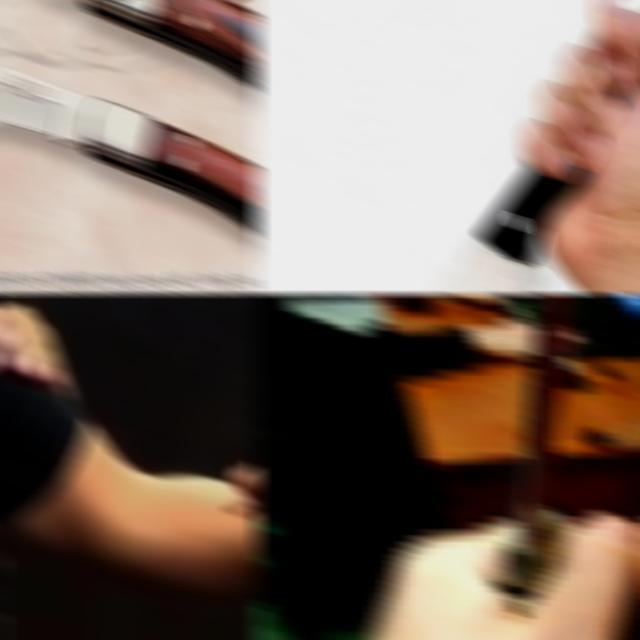Knife: (0, 67, 260, 236), (429, 164, 589, 295), (80, 0, 260, 92)
Knife_Handle: (261, 0, 640, 295), (346, 293, 640, 640)
